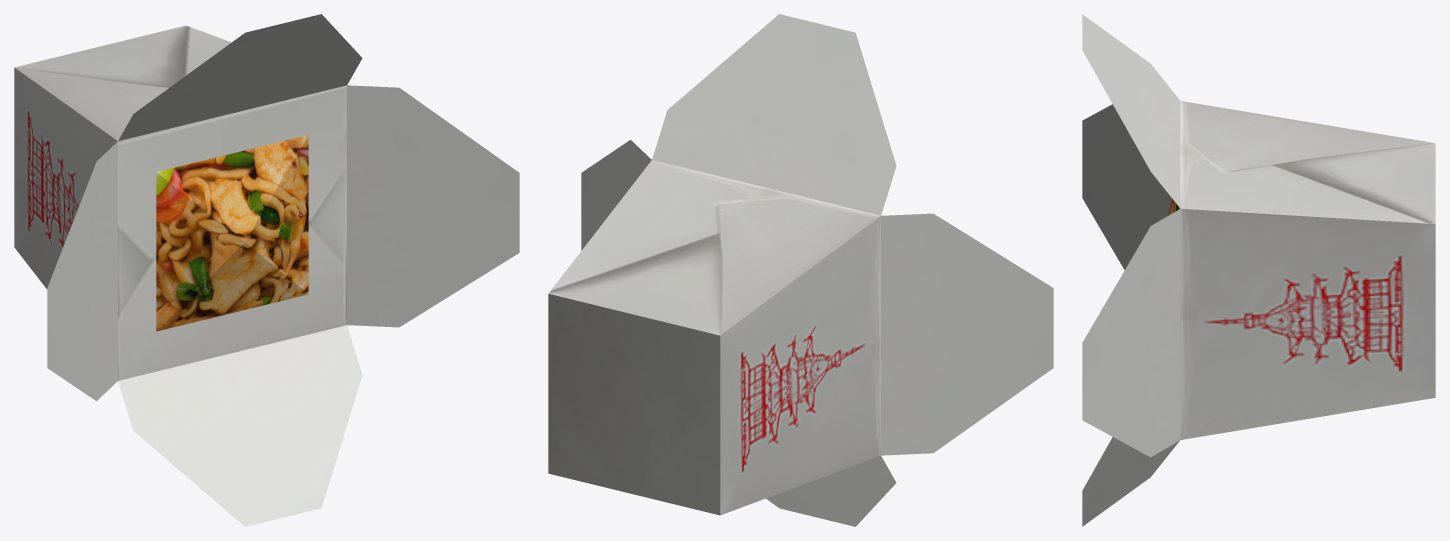
The model's file is chinese-take-out-boxes-254dac.glb.
The picture shows the model from 3 angles, left to right: view 1: azimuth 30°, elevation 25°; view 2: azimuth 150°, elevation 25°; view 3: azimuth 270°, elevation 25°; orthographic projection. The views are drawn at different scales.
Visible parts, largest first — view 1: PropMesh; view 2: PropMesh; view 3: PropMesh.
Boxes of the visible parts, bbox=[...] form: PropMesh: bbox=[14, 14, 519, 526]; PropMesh: bbox=[548, 14, 1053, 526]; PropMesh: bbox=[1082, 14, 1435, 526].
Bounding box in the file's own units: 0.4405 × 0.4405 × 0.296.
4 materials, 4 textured.
